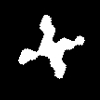single_crochet: (18, 15, 84, 78)
